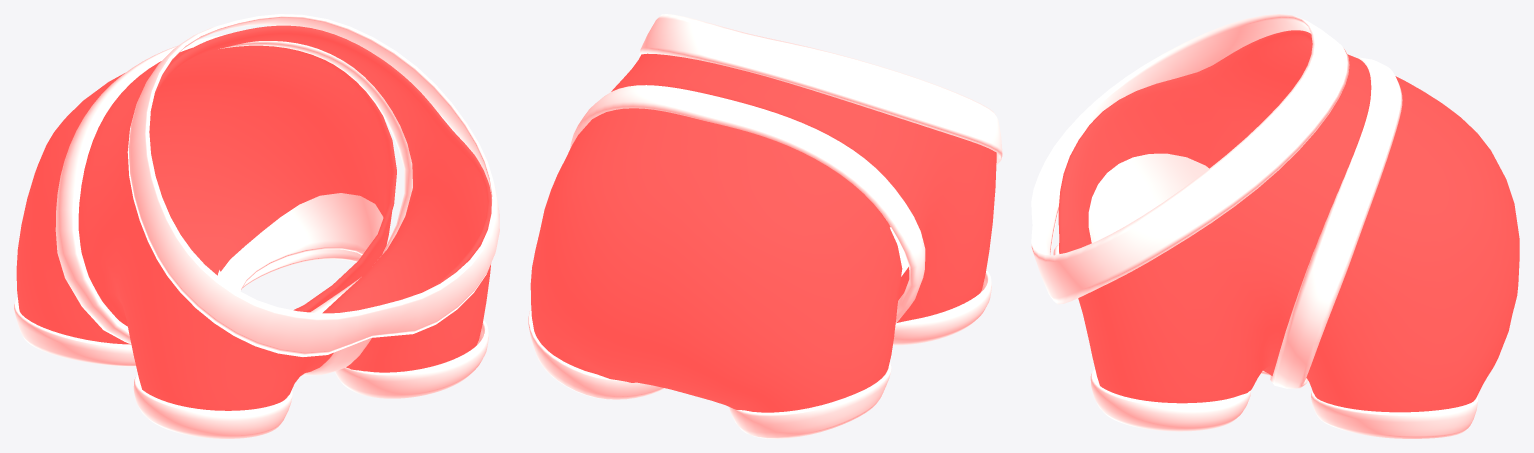
Rendered from santa_clothes.glb.
The picture shows the model from 3 angles, left to right: view 1: azimuth 30°, elevation 25°; view 2: azimuth 150°, elevation 25°; view 3: azimuth 270°, elevation 25°; orthographic projection. The views are drawn at different scales.
Parts seen in each view (by area): view 1: santa_clothes; view 2: santa_clothes; view 3: santa_clothes.
Part boxes in pixels (box(x1,y1,x2,y2)): santa_clothes: box(14, 14, 499, 438); santa_clothes: box(528, 14, 1002, 438); santa_clothes: box(1031, 14, 1519, 438).
Bounding box in the file's own units: 1.83 × 1.68 × 2.18.
1 material, 1 textured.
